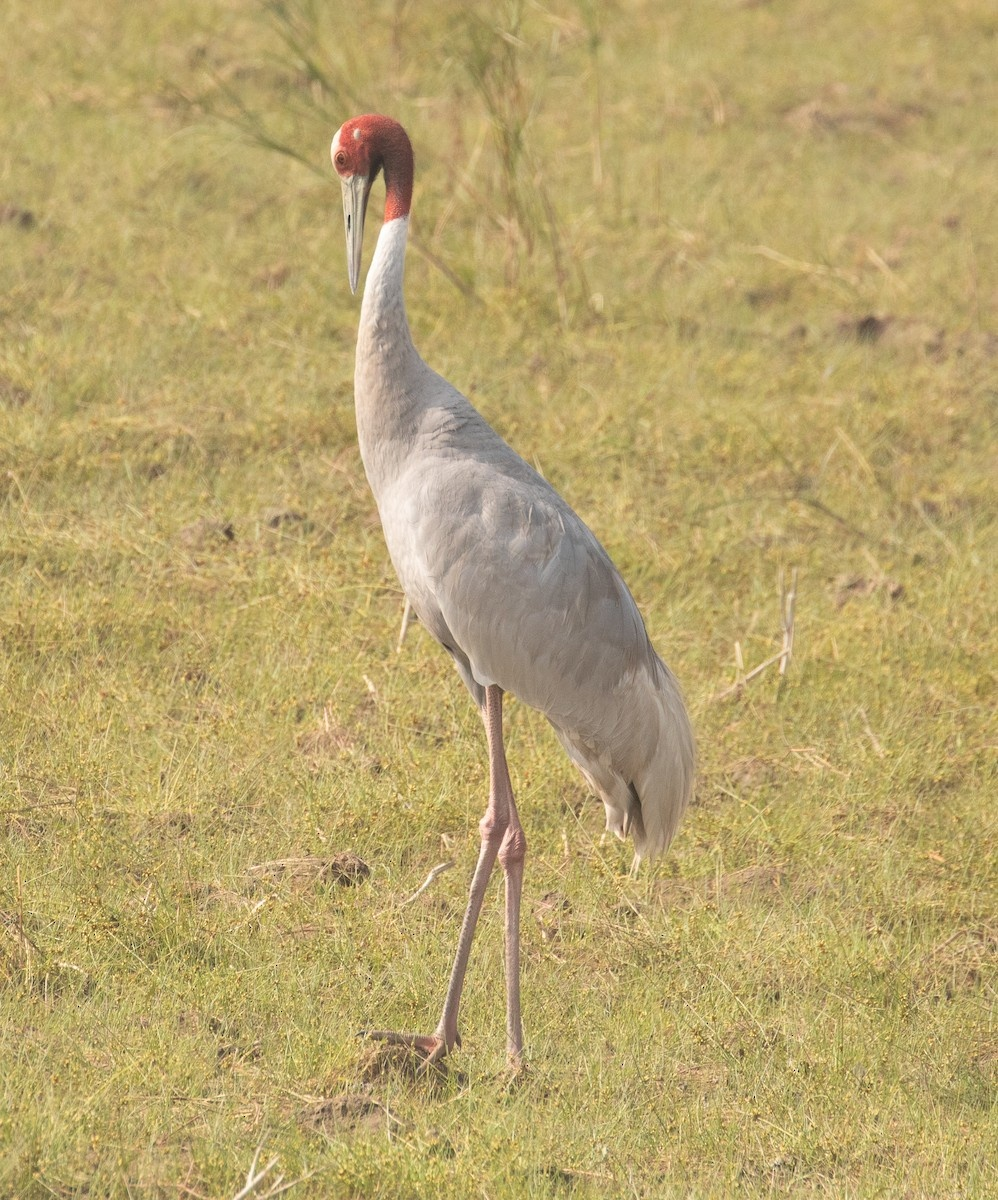crane: (314, 101, 696, 1110)
